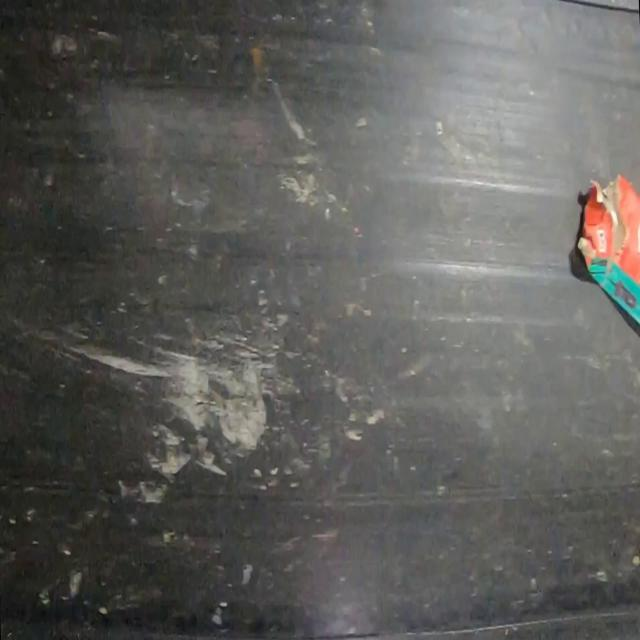cardboard: (576, 173, 639, 330)
